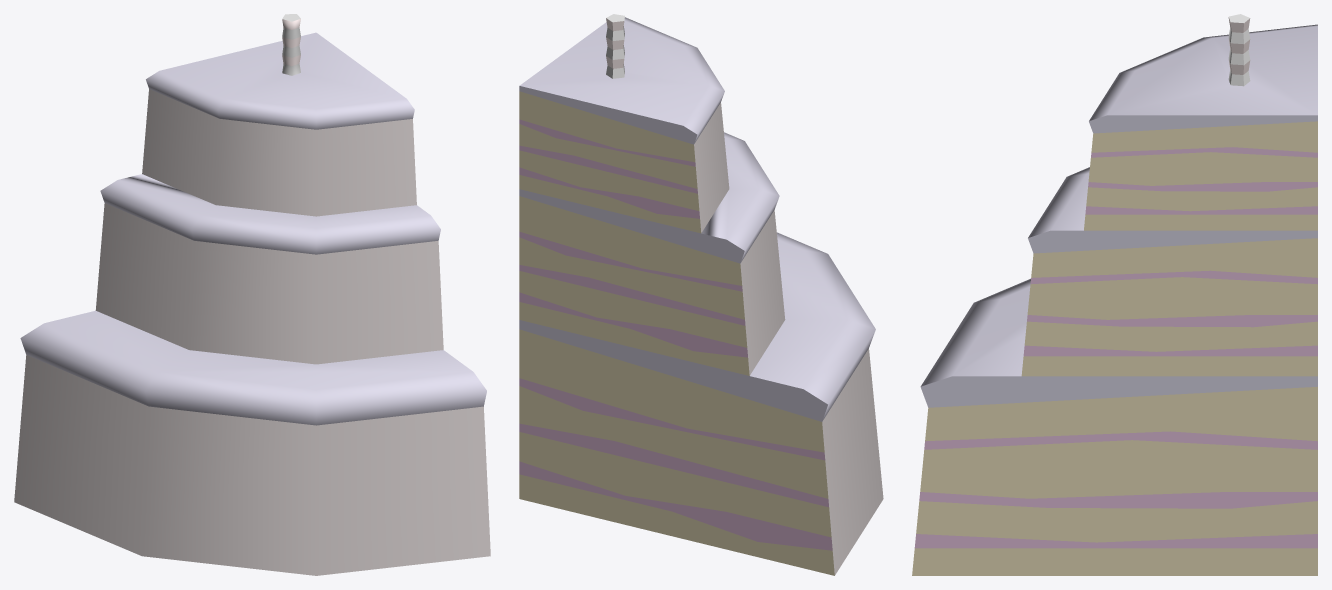
The model's file is Cake.fbx.
The picture shows the model from 3 angles, left to right: view 1: azimuth 30°, elevation 25°; view 2: azimuth 150°, elevation 25°; view 3: azimuth 270°, elevation 25°; orthographic projection. The views are drawn at different scales.
Parts seen in each view (by area): view 1: Cake; view 2: Cake; view 3: Cake.
Boxes of the visible parts, box(x1,y1,x2,y2) form: Cake: box(14, 14, 490, 575); Cake: box(519, 14, 883, 575); Cake: box(912, 14, 1317, 575).
Bounding box in the file's own units: 0.35 × 0.4983 × 0.35.
